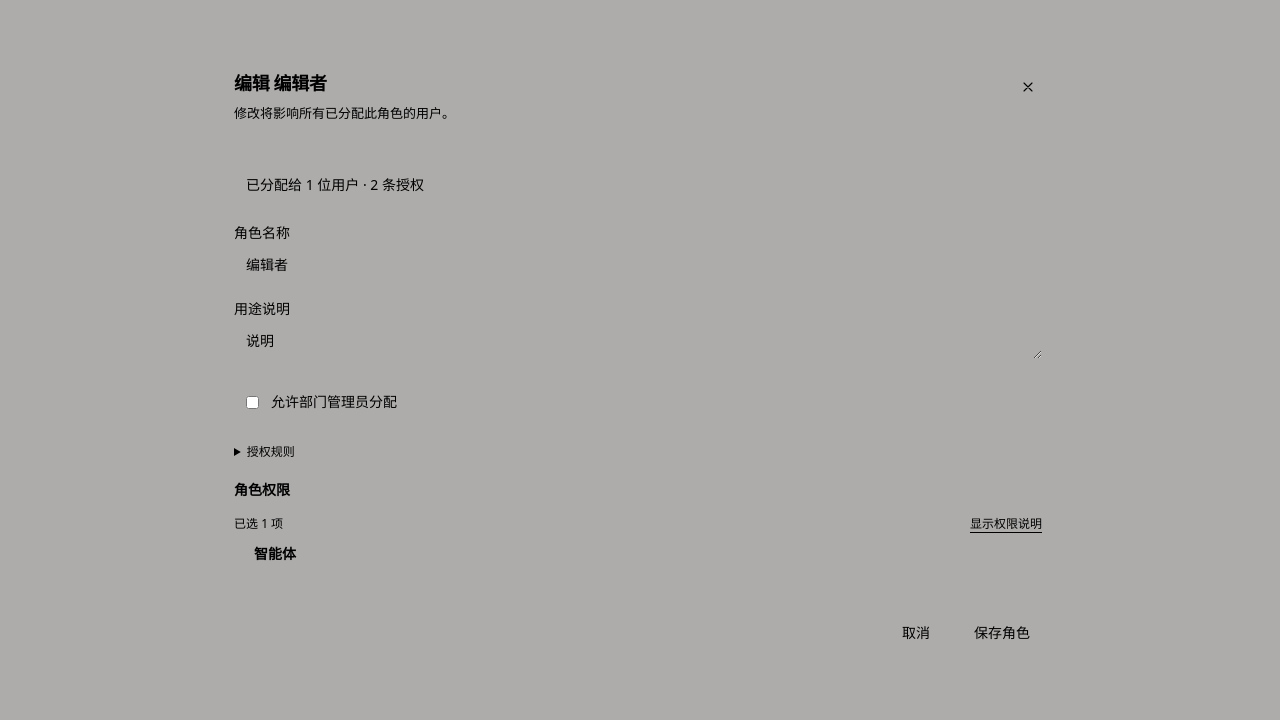
Test: 角色权限编辑 › 未保存更改关闭前显示站内提示
Step 1. Replace the text in the field labelled "角色名称" with "草稿" → (638, 265), box [234, 247, 1042, 283]
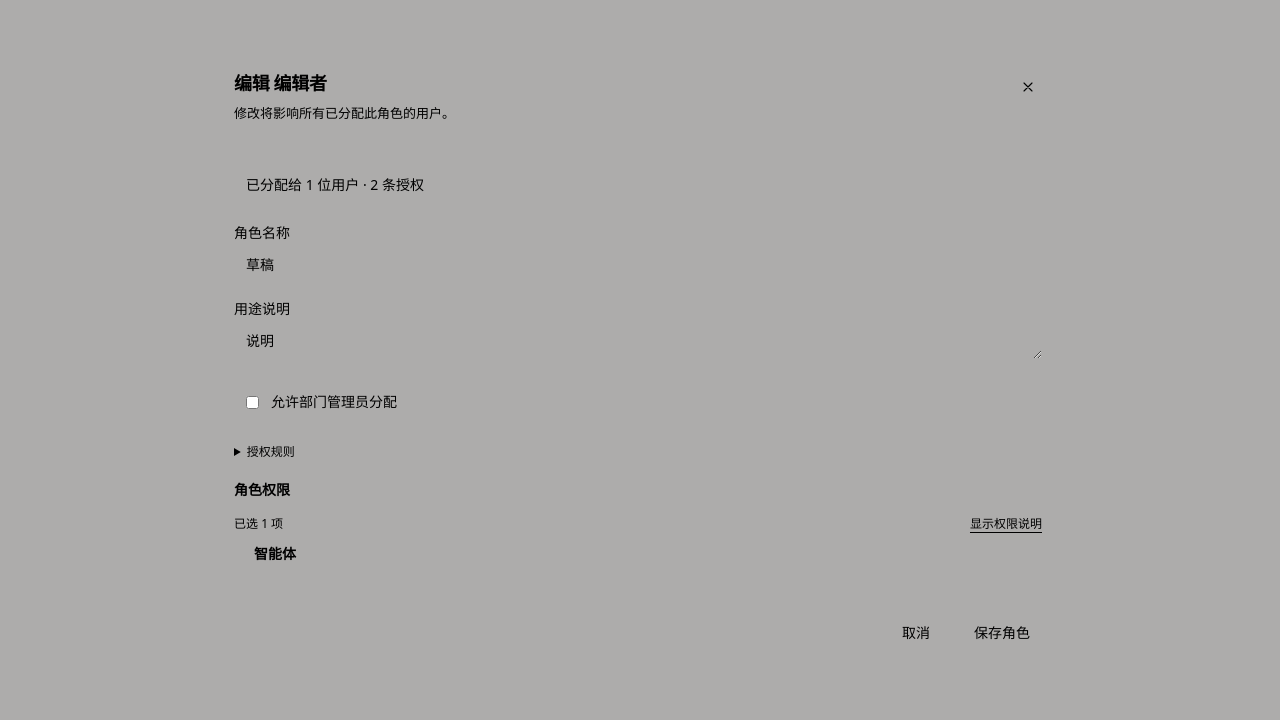
Step 2. Click the button "取消" → click(916, 633), box [886, 615, 946, 651]
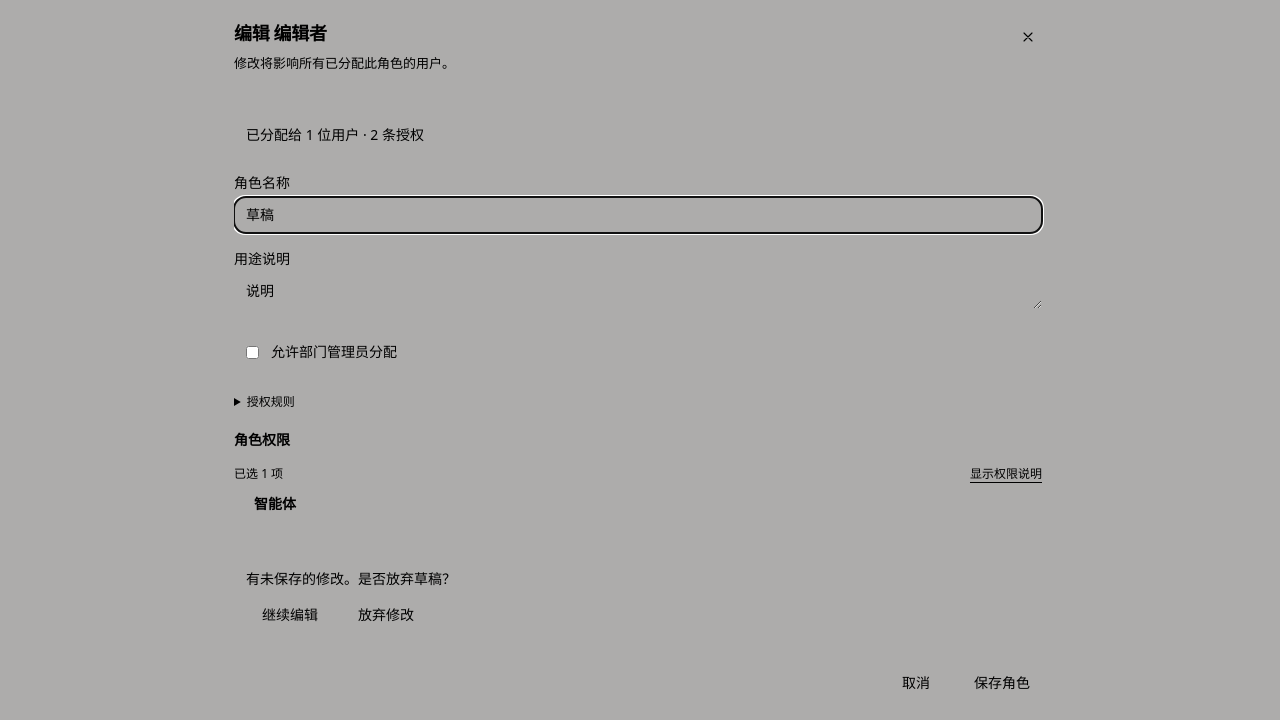
Check: the text "有未保存的修改。是否放弃草稿？" is shown, box [246, 569, 456, 588]
